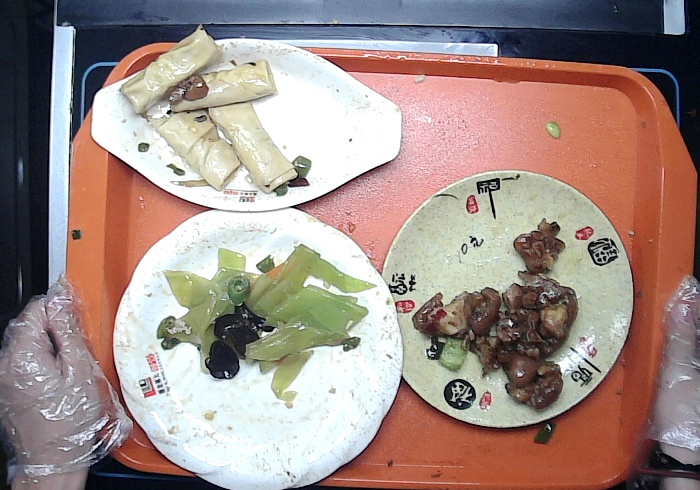NLDX-Bai_Zhe_Yuan_Pan: (110, 205, 405, 490)
NLDX-Fu_Zi_Yuan_Pan: (380, 168, 635, 428)
NLDX-Yu_Pan: (88, 35, 404, 214)
